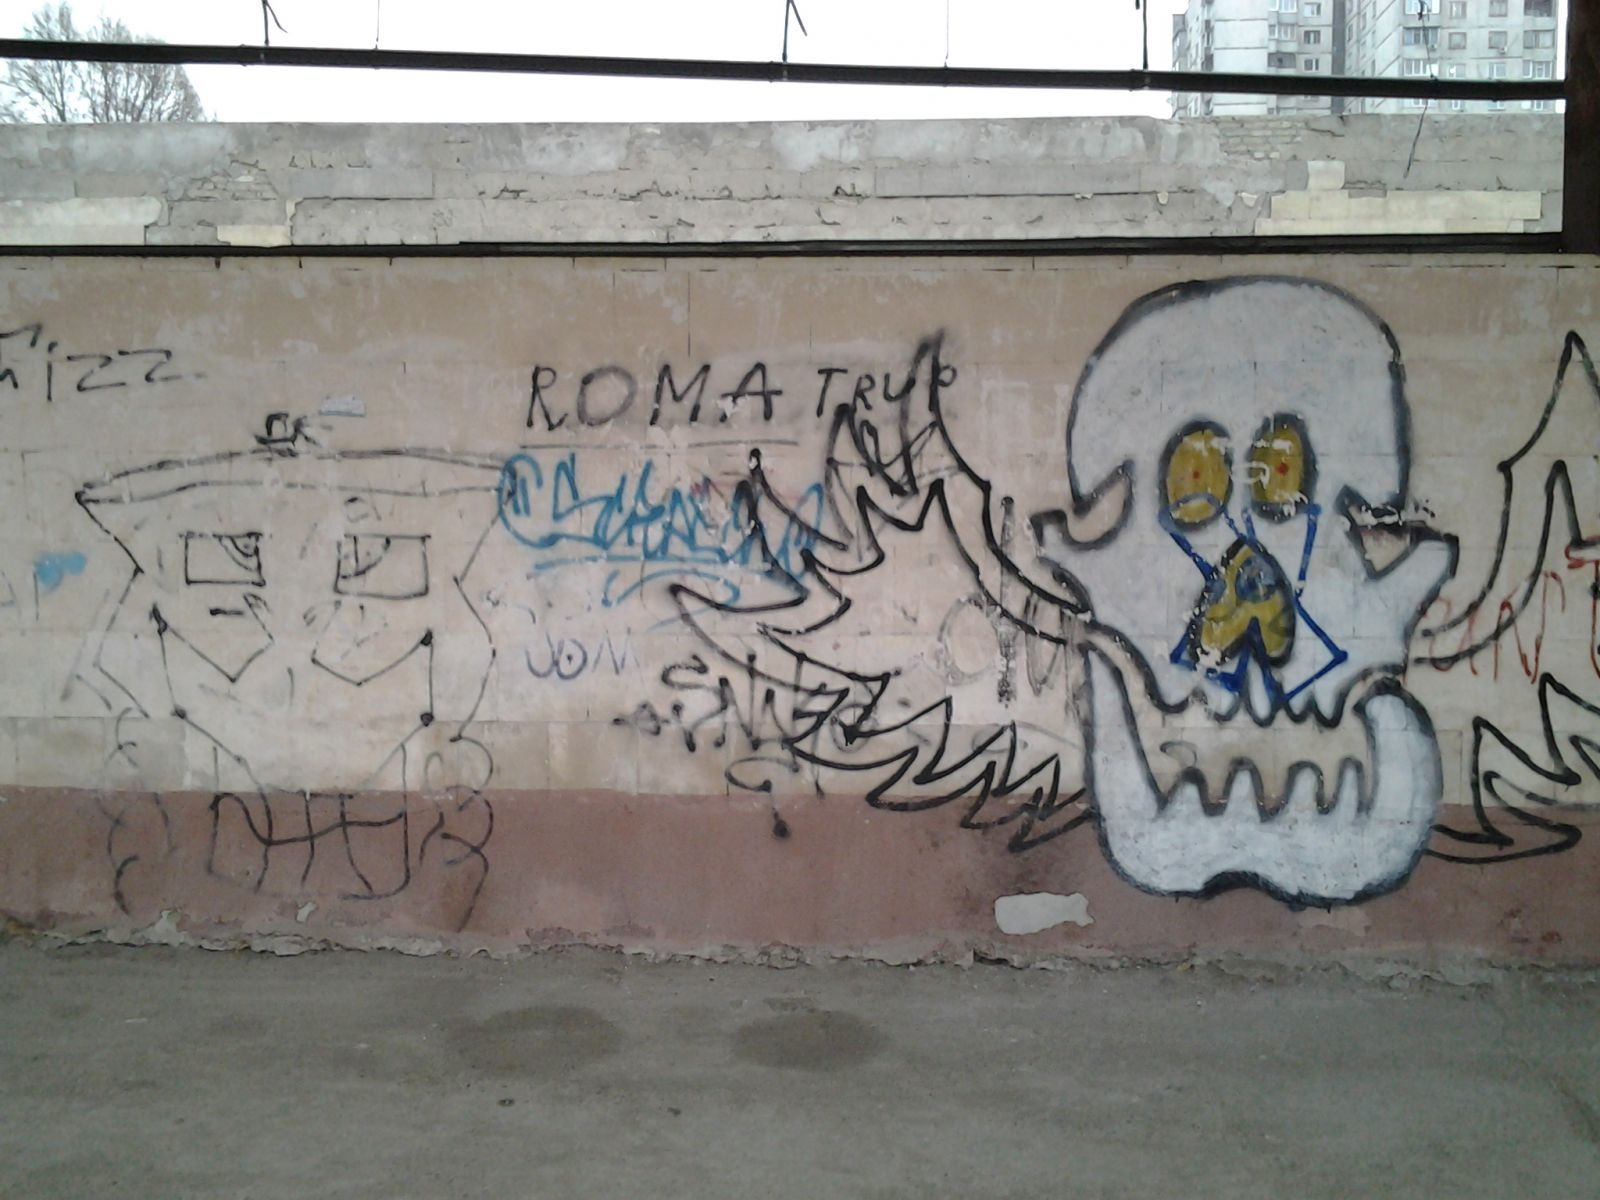graphite: (1034, 280, 1502, 926), (58, 436, 517, 959), (699, 630, 1091, 875), (503, 466, 830, 689), (506, 334, 831, 437), (1, 311, 198, 431)
